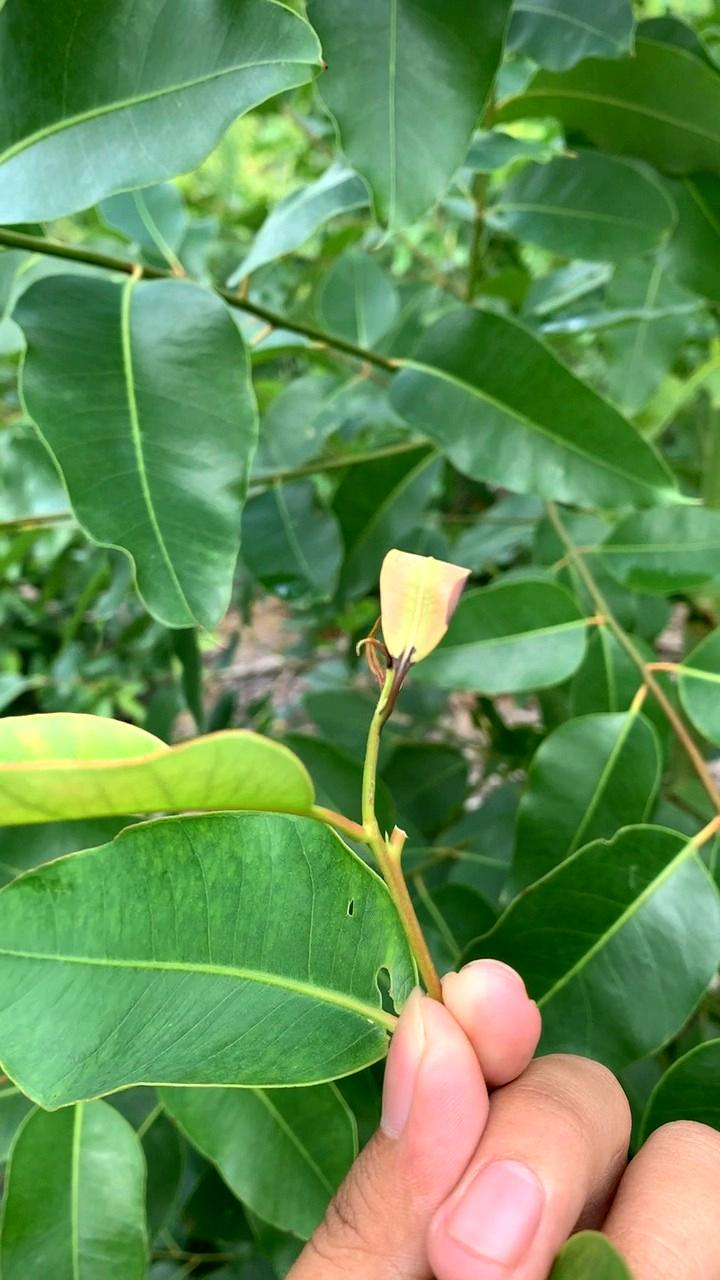Helopeltis-Withered Sprout: (343, 533, 473, 763)
